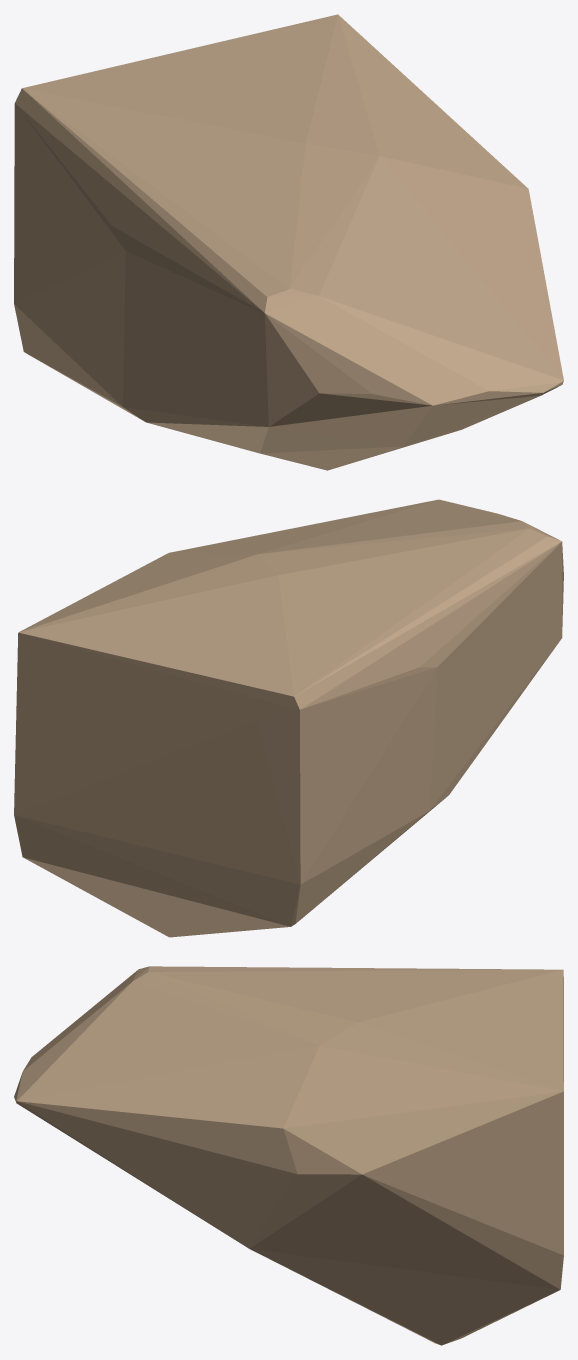
Rendered from equipment_hoseReel_pressureWasher_c01.glb.
3 renders of one model, top to bottom at view 1: azimuth 30°, elevation 25°; view 2: azimuth 150°, elevation 25°; view 3: azimuth 270°, elevation 25°, orthographic. The views are drawn at different scales.
Visible parts, largest first — view 1: geometry_0; view 2: geometry_0; view 3: geometry_0.
Part boxes in pixels (<box>): geometry_0: <box>14,14,563,470</box>; geometry_0: <box>14,499,563,937</box>; geometry_0: <box>14,966,563,1345</box>.
Size of the model in its own units: 0.3055 by 0.2825 by 0.4788.
